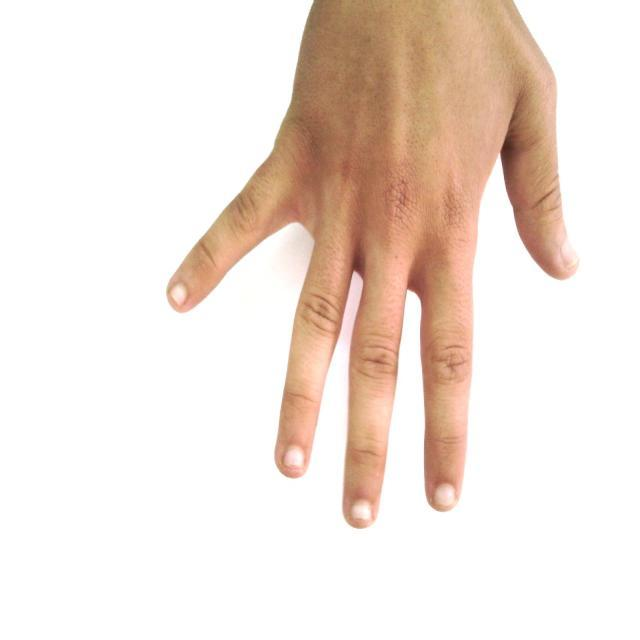Fingernail: (435, 483, 455, 508), (351, 502, 372, 523), (283, 446, 303, 468), (169, 283, 186, 306), (562, 242, 578, 266)
